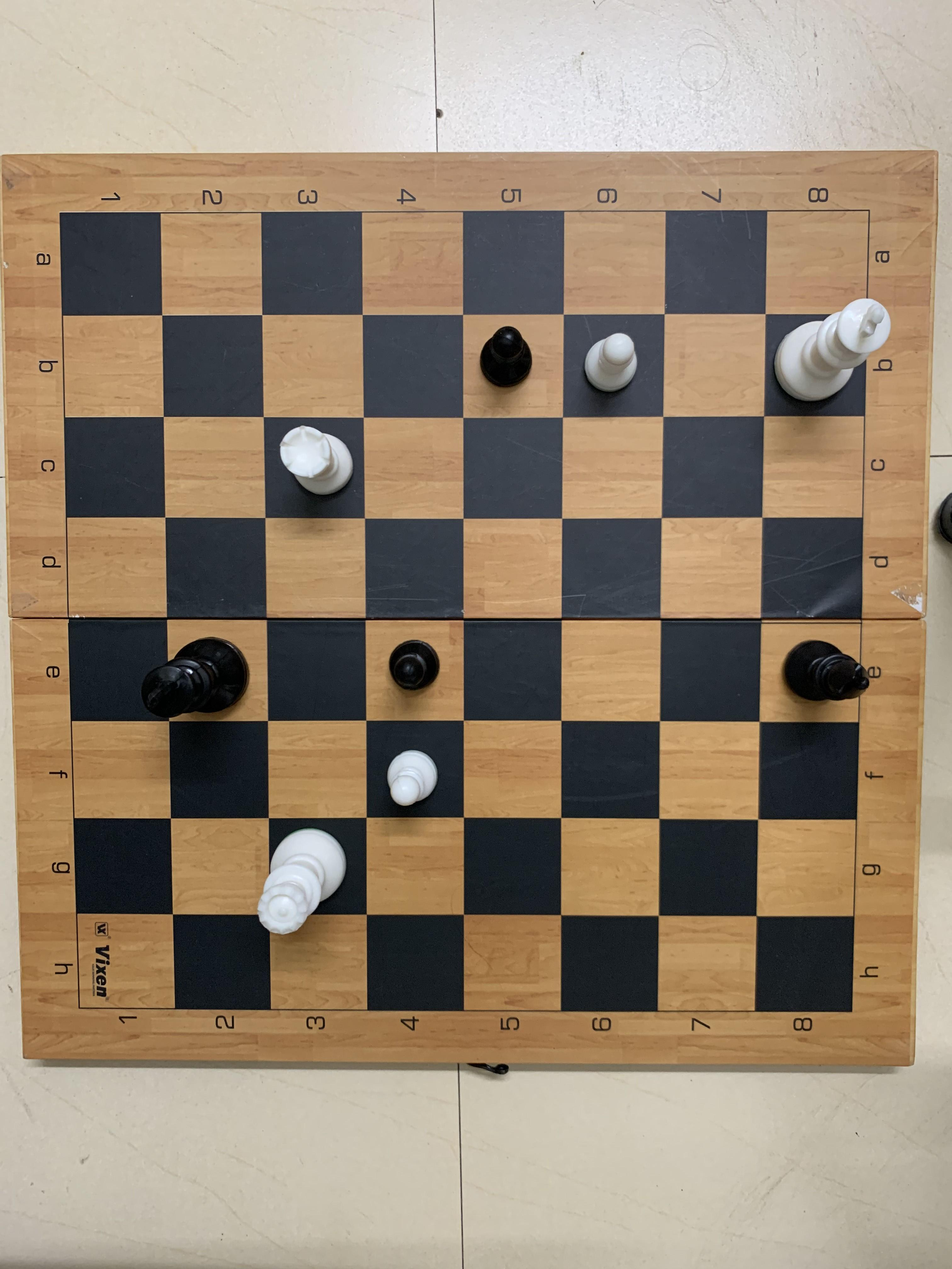black_bishop: (767, 623, 883, 720)
black_king: (142, 619, 268, 721)
black_pawn: (458, 315, 558, 416), (362, 625, 455, 708)
white_king: (765, 290, 897, 412)
white_pawn: (360, 719, 463, 820), (564, 309, 654, 406)
white_queen: (255, 814, 353, 945)
white_rook: (263, 420, 357, 523)
